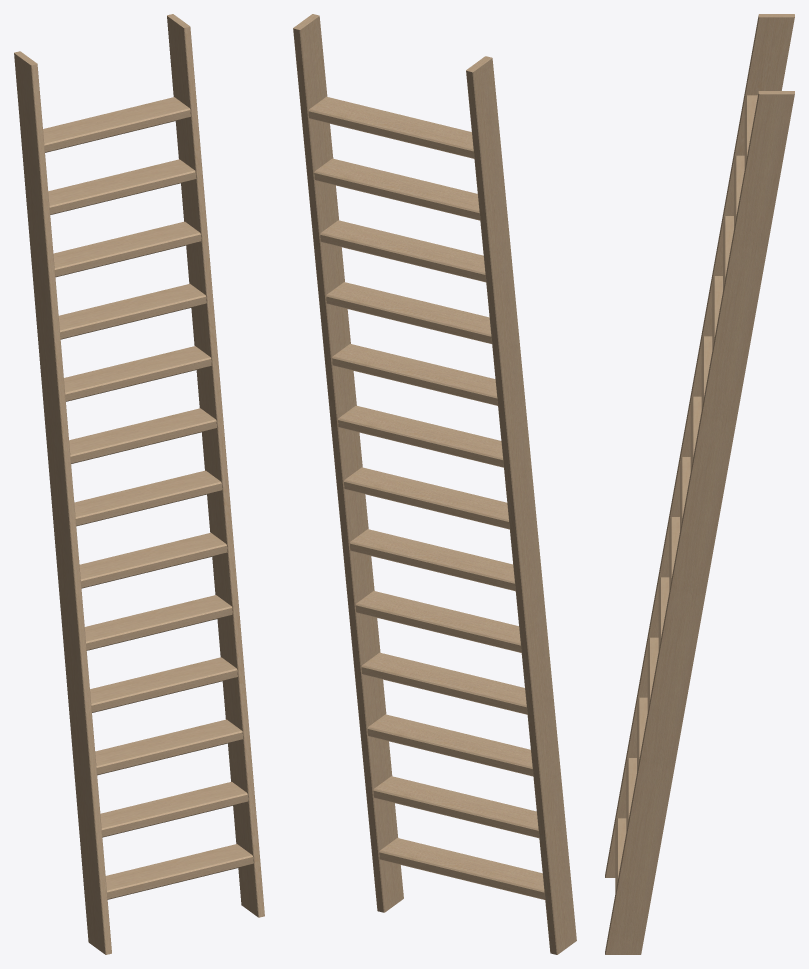
The model's file is D_Ladder_201.fbx.
3 renders of one model, left to right at view 1: azimuth 30°, elevation 25°; view 2: azimuth 150°, elevation 25°; view 3: azimuth 270°, elevation 25°, orthographic. The views are drawn at different scales.
Visible parts, largest first — view 1: D_Ladder_201; view 2: D_Ladder_201; view 3: D_Ladder_201.
Part boxes in pixels (box(x1,y1,x2,y2)): D_Ladder_201: box(14, 14, 264, 954); D_Ladder_201: box(293, 14, 576, 954); D_Ladder_201: box(605, 14, 794, 954).
Bounding box in the file's own units: 0.8994 × 4.5 × 0.9001.
